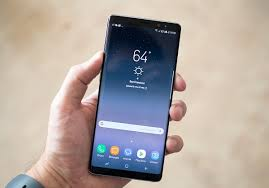samsung: (84, 7, 185, 184)
